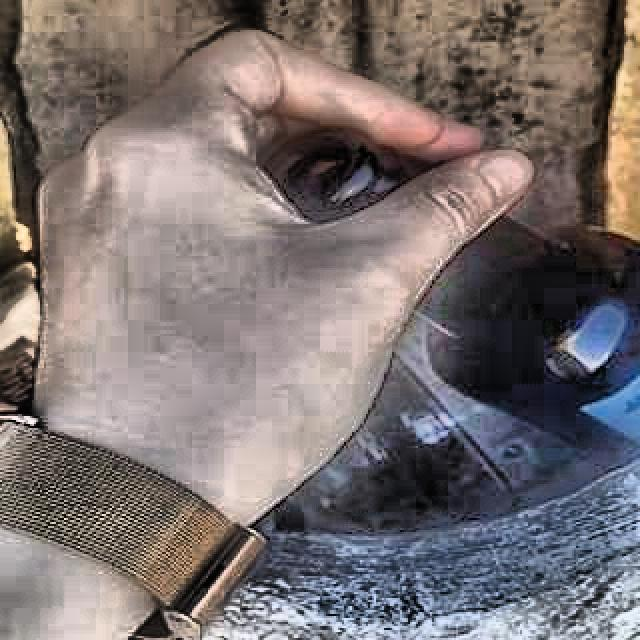glass: (416, 218, 640, 442), (264, 128, 427, 223)
